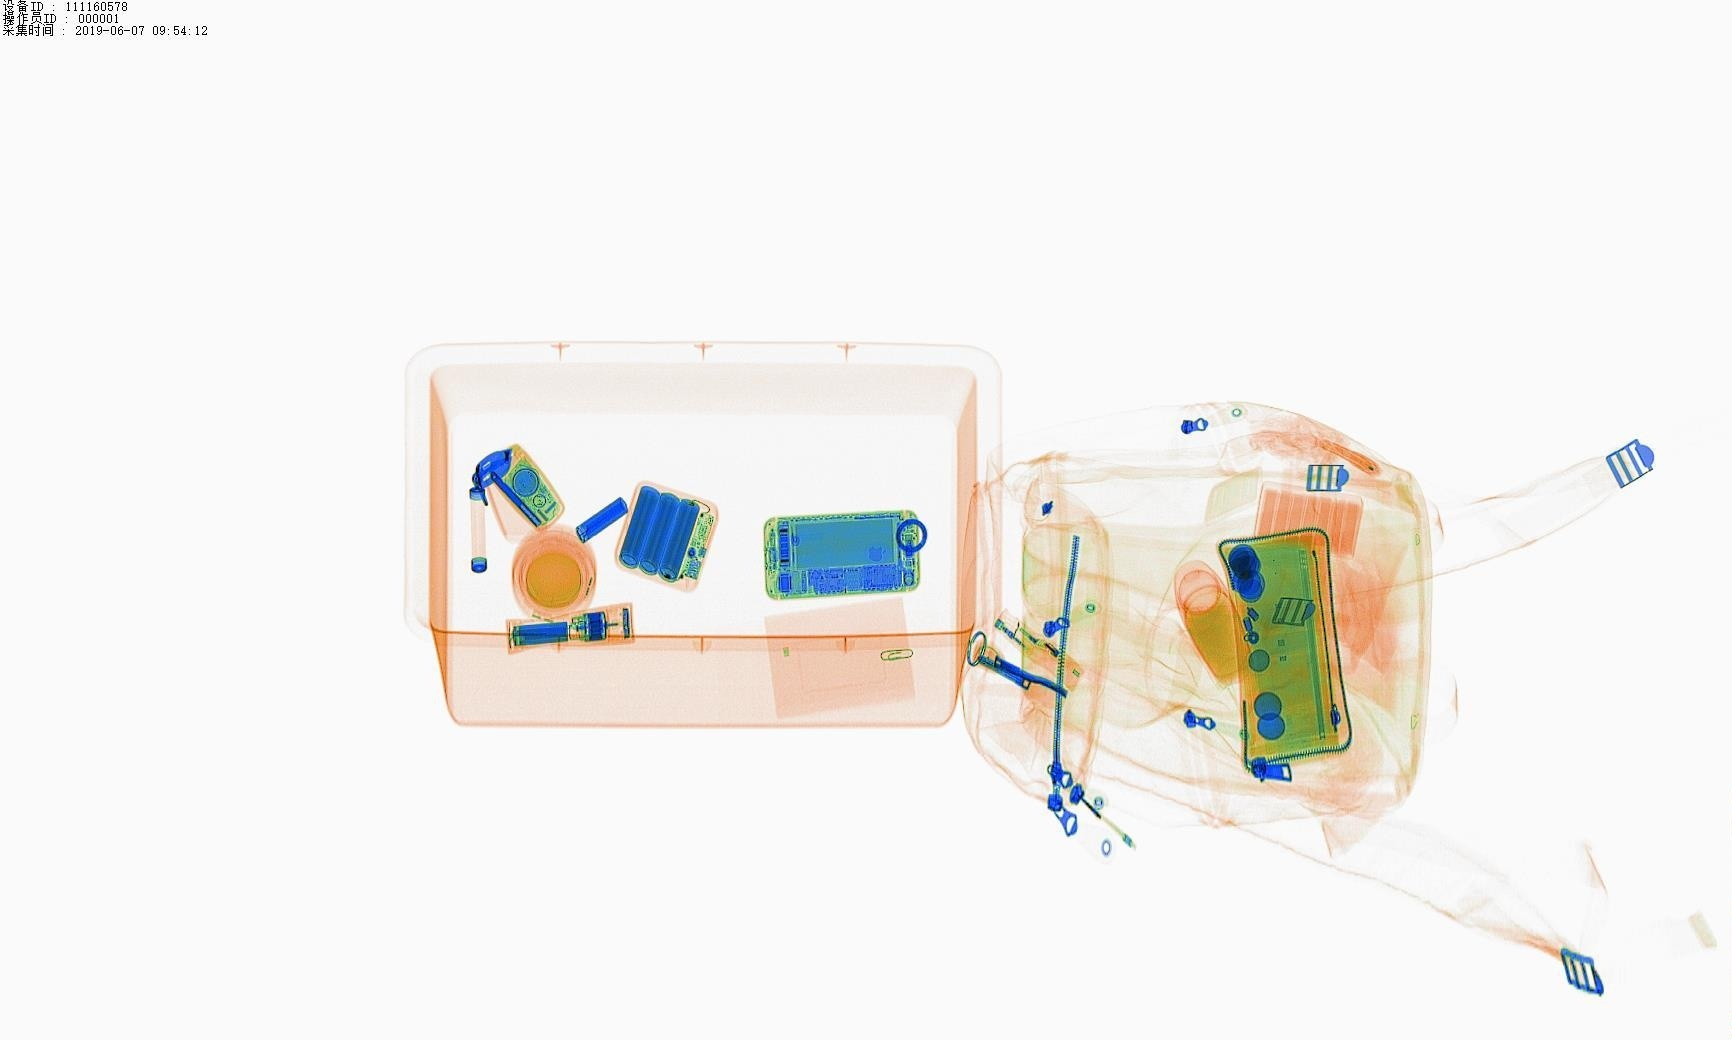NonmetallicFire: (993, 601, 1107, 716)
